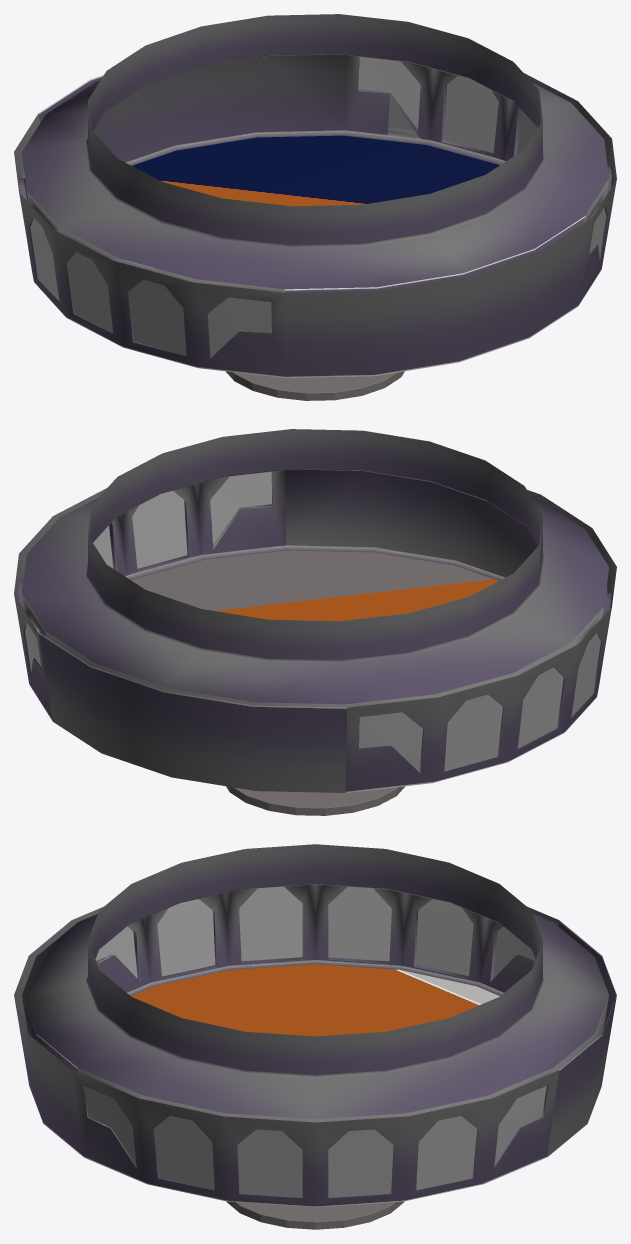
The model's file is ShipAltBottomBrett.fbx.
3 views of the same model, one above another, from view 1: azimuth 30°, elevation 25°; view 2: azimuth 150°, elevation 25°; view 3: azimuth 270°, elevation 25° (orthographic).
Parts seen in each view (by area): view 1: polySurface3, polySurface1, polySurface5, polySurface2, polySurface4; view 2: polySurface3, polySurface1, polySurface5, polySurface2, polySurface4; view 3: polySurface3, polySurface5, polySurface1, polySurface2, polySurface4.
Boxes of the visible parts, box(x1,y1,x2,y2) form: polySurface3: box(14, 14, 616, 377); polySurface1: box(132, 135, 499, 206); polySurface5: box(30, 56, 606, 357); polySurface2: box(226, 371, 404, 400); polySurface4: box(125, 130, 505, 165); polySurface3: box(14, 429, 616, 792); polySurface1: box(131, 550, 498, 621); polySurface5: box(25, 471, 600, 772); polySurface2: box(226, 786, 404, 815); polySurface4: box(125, 545, 505, 580); polySurface3: box(14, 844, 616, 1207); polySurface5: box(84, 886, 546, 1197); polySurface1: box(131, 964, 499, 1036); polySurface2: box(226, 1201, 404, 1229); polySurface4: box(127, 960, 503, 995).
Bounding box in the file's own units: 18.8 × 8.61 × 18.8.
